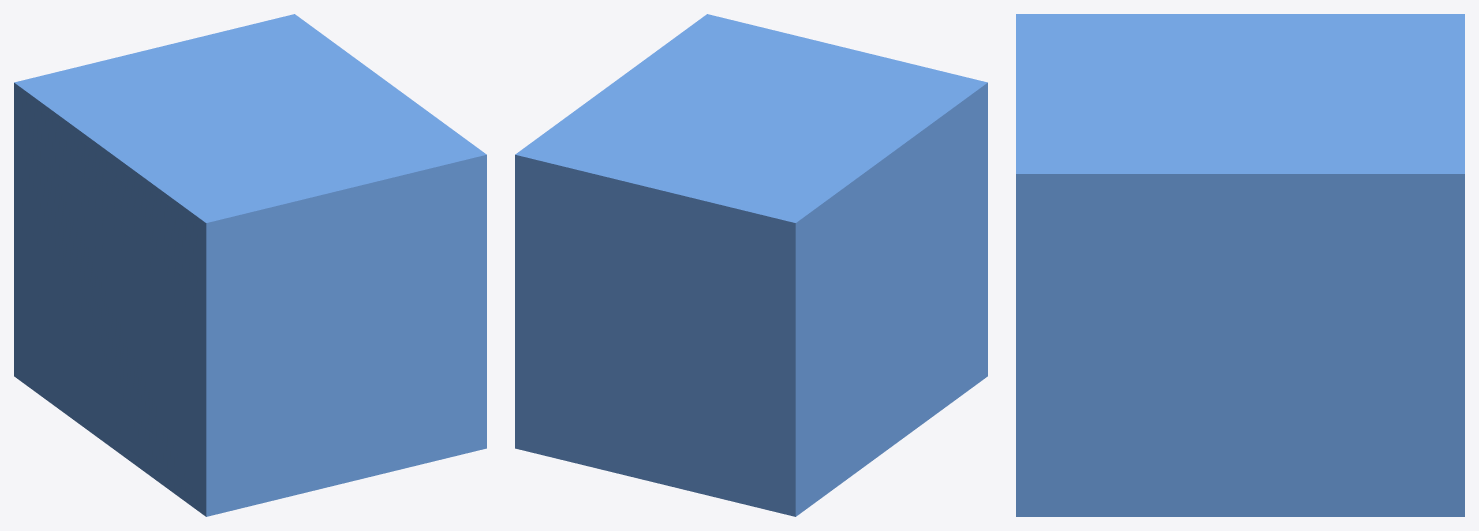
Rendered from WaterEnvironment.glb.
3 views of the same model, side by side, from view 1: azimuth 30°, elevation 25°; view 2: azimuth 150°, elevation 25°; view 3: azimuth 270°, elevation 25° (orthographic). The views are drawn at different scales.
Parts seen in each view (by area): view 1: WaterTank; view 2: WaterTank; view 3: WaterTank.
Part boxes in pixels (<box>): WaterTank: <box>14,14,486,516</box>; WaterTank: <box>515,14,987,516</box>; WaterTank: <box>1016,14,1464,516</box>.
Size of the model in its own units: 104 by 104 by 123.
